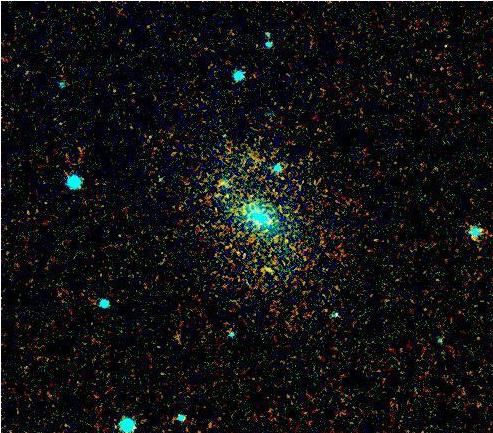star: (253, 254, 283, 284)
